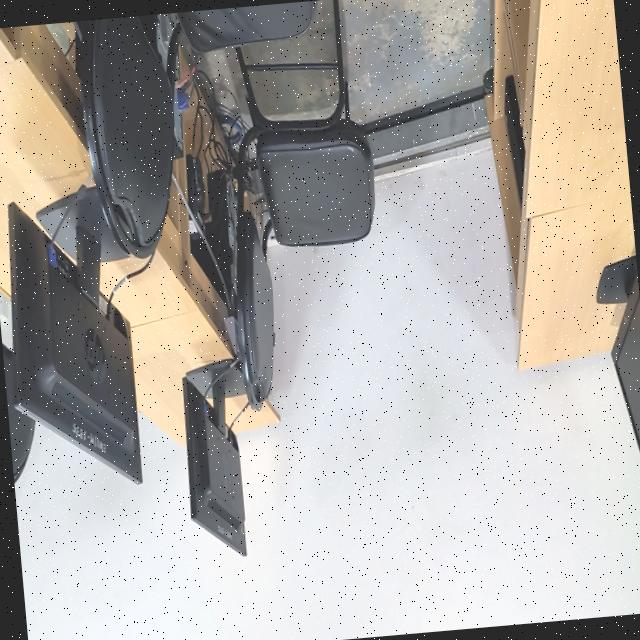Chair: (230, 0, 374, 422), (73, 13, 174, 258), (174, 0, 315, 52), (1, 342, 34, 482)
Cpu: (504, 75, 524, 204)
Monitor: (7, 184, 141, 482), (181, 360, 245, 555), (595, 254, 640, 456)
